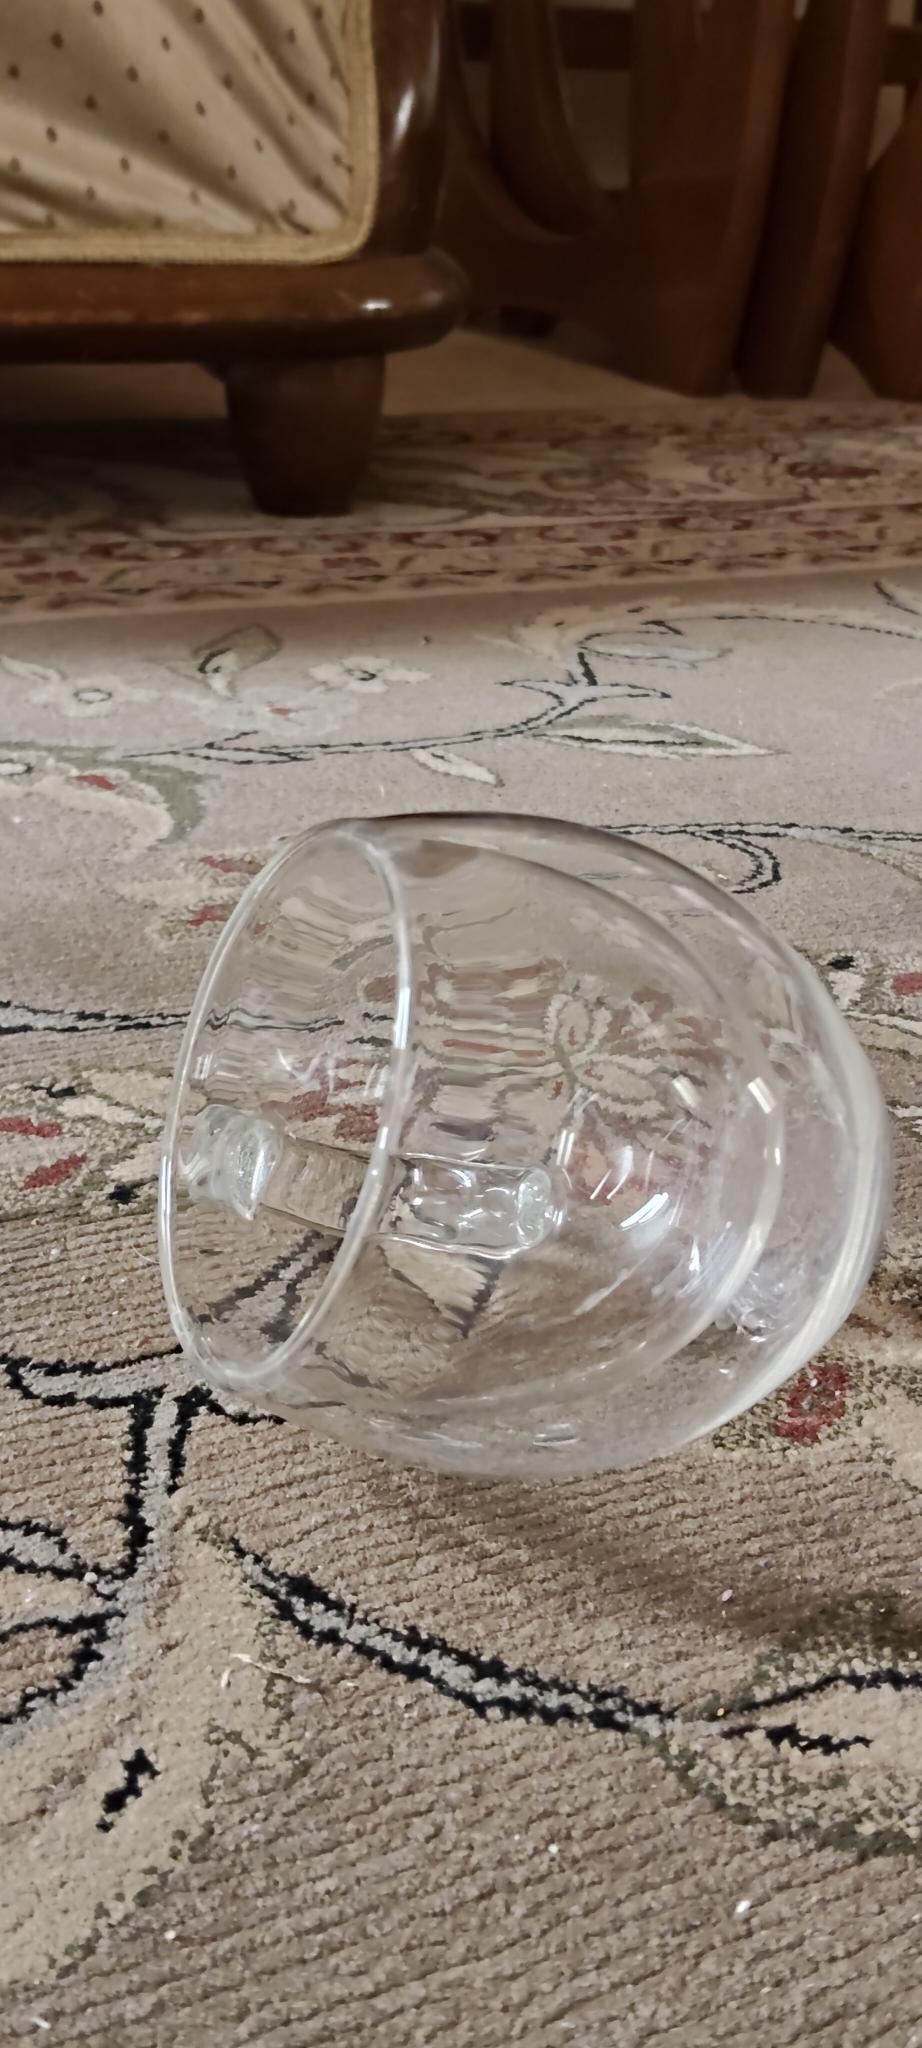Mug: (160, 806, 890, 1472)
